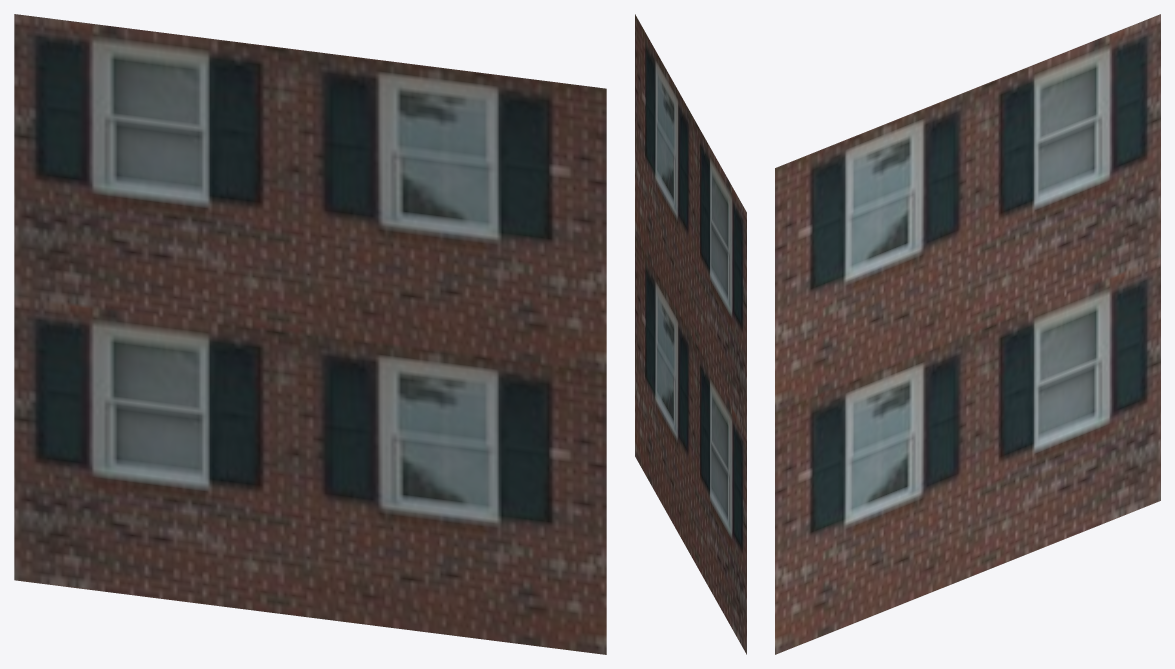
File: ResTex__1354.fbx
3 views of the same model, side by side, from view 1: azimuth 30°, elevation 25°; view 2: azimuth 150°, elevation 25°; view 3: azimuth 270°, elevation 25° (orthographic). The views are drawn at different scales.
Parts seen in each view (by area): view 1: CityEngineMaterial_14_m; view 2: CityEngineMaterial_14_m; view 3: CityEngineMaterial_14_m.
Part boxes in pixels (left/top/right/bottom): CityEngineMaterial_14_m: left=14, top=14, right=606, bottom=654; CityEngineMaterial_14_m: left=635, top=14, right=746, bottom=654; CityEngineMaterial_14_m: left=775, top=14, right=1160, bottom=654.
Bounding box in the file's own units: 4.07 × 6 × 4.31.
1 material, 1 textured.
